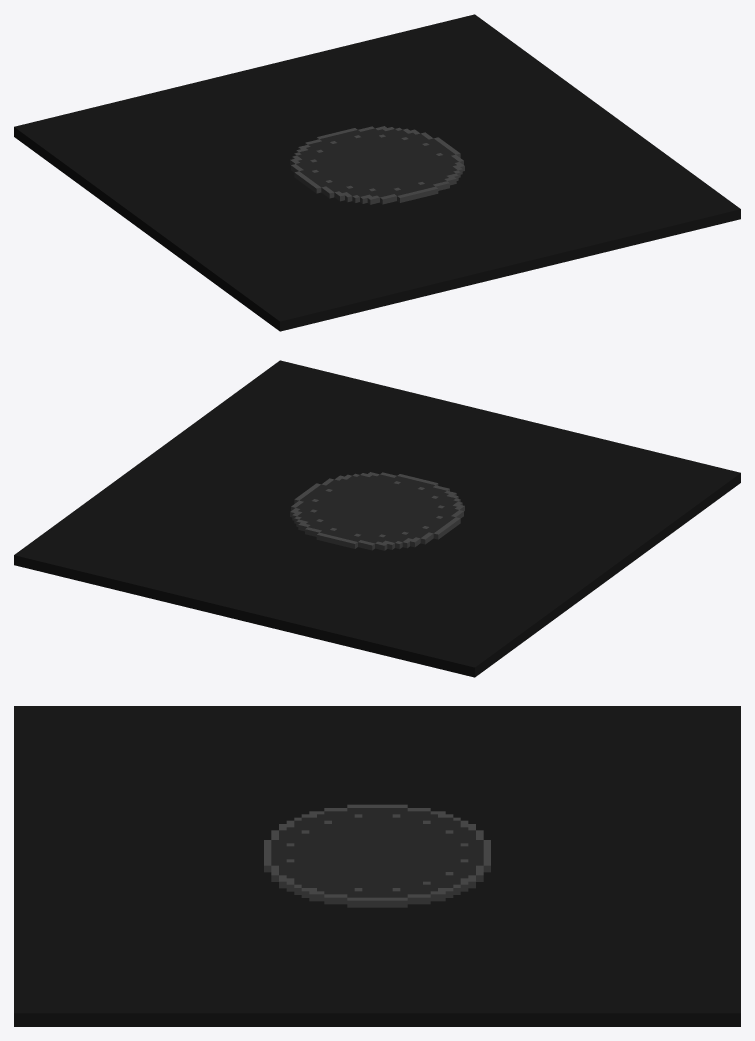
File: carground2.obj
3 views of the same model, one above another, from view 1: azimuth 30°, elevation 25°; view 2: azimuth 150°, elevation 25°; view 3: azimuth 270°, elevation 25° (orthographic). The views are drawn at different scales.
Size of the model in its own units: 9.6 by 0.3 by 9.6.
1 material, 1 textured.
